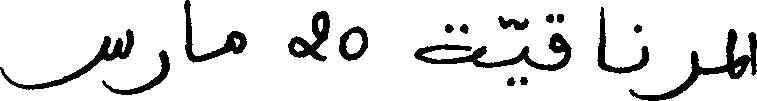X: (599, 2, 647, 100), (418, 19, 476, 71), (132, 26, 169, 98), (649, 46, 696, 100), (290, 6, 325, 66), (728, 24, 756, 83), (551, 9, 568, 75), (341, 21, 365, 65), (228, 26, 246, 58), (521, 13, 527, 89), (185, 0, 191, 65), (0, 62, 3, 80)
